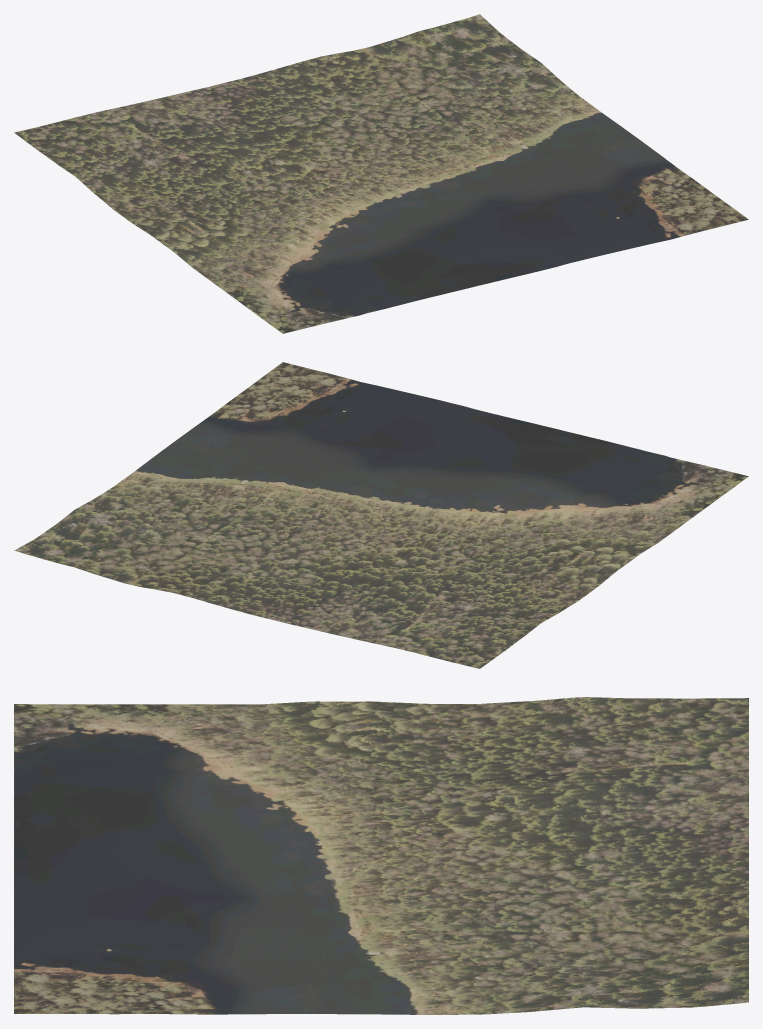
File: CM_Terrain_24493530_6814060.fbx
3 renders of one model, top to bottom at view 1: azimuth 30°, elevation 25°; view 2: azimuth 150°, elevation 25°; view 3: azimuth 270°, elevation 25°, orthographic. The views are drawn at different scales.
Visible parts, largest first — view 1: CM_Terrain_24493530_6814060_LOD0; view 2: CM_Terrain_24493530_6814060_LOD0; view 3: CM_Terrain_24493530_6814060_LOD0.
Part boxes in pixels (x1,y1,x2,y2): CM_Terrain_24493530_6814060_LOD0: (14, 14, 748, 333); CM_Terrain_24493530_6814060_LOD0: (14, 362, 748, 668); CM_Terrain_24493530_6814060_LOD0: (14, 697, 748, 1014).
Size of what is drawn, in the model's own units: 205 by 4.07 by 205.
